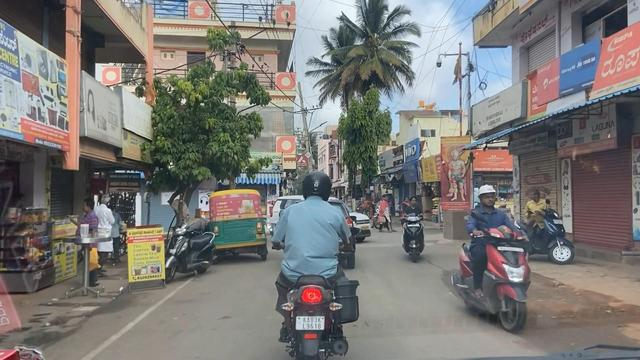LMV: (283, 180, 359, 357), (212, 191, 262, 256)
RoadDamages: (541, 287, 640, 353)
